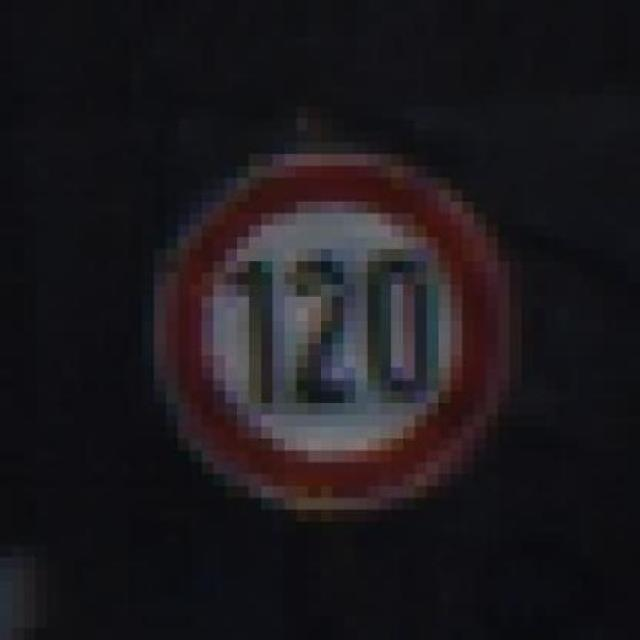forb_speed_over_120: (163, 160, 506, 511)
